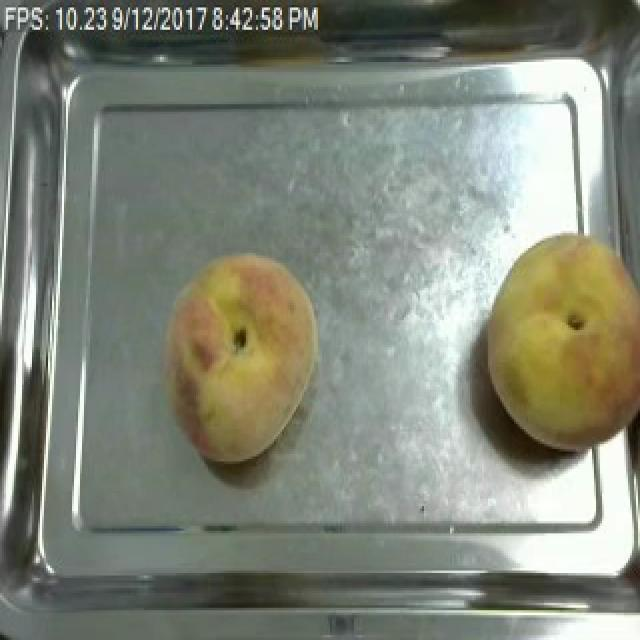Fruit: (152, 243, 328, 469), (474, 223, 640, 459)
